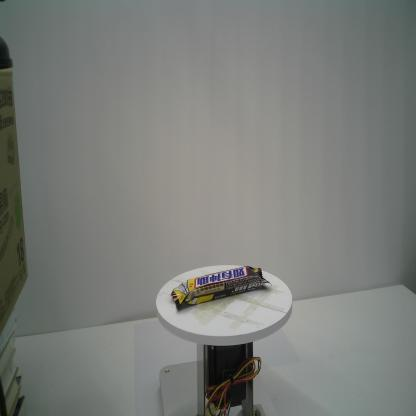Chocolate: (170, 266, 272, 309)
